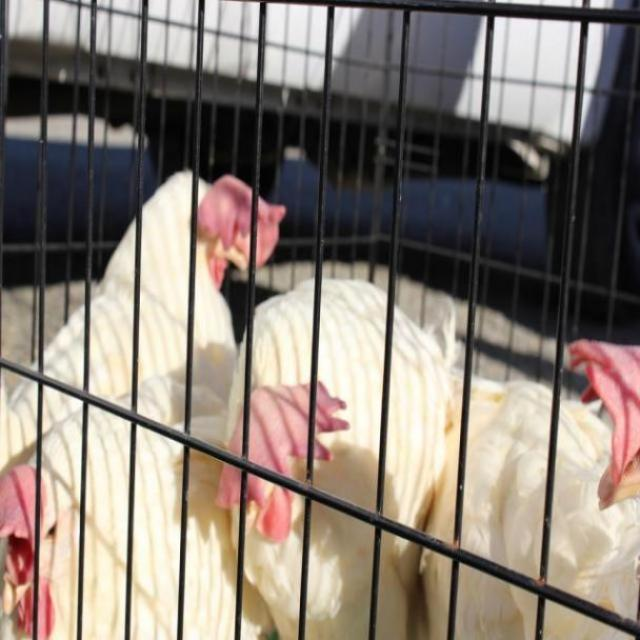Chicken: (36, 129, 299, 534), (212, 270, 463, 639), (0, 367, 269, 639), (419, 337, 640, 640)
